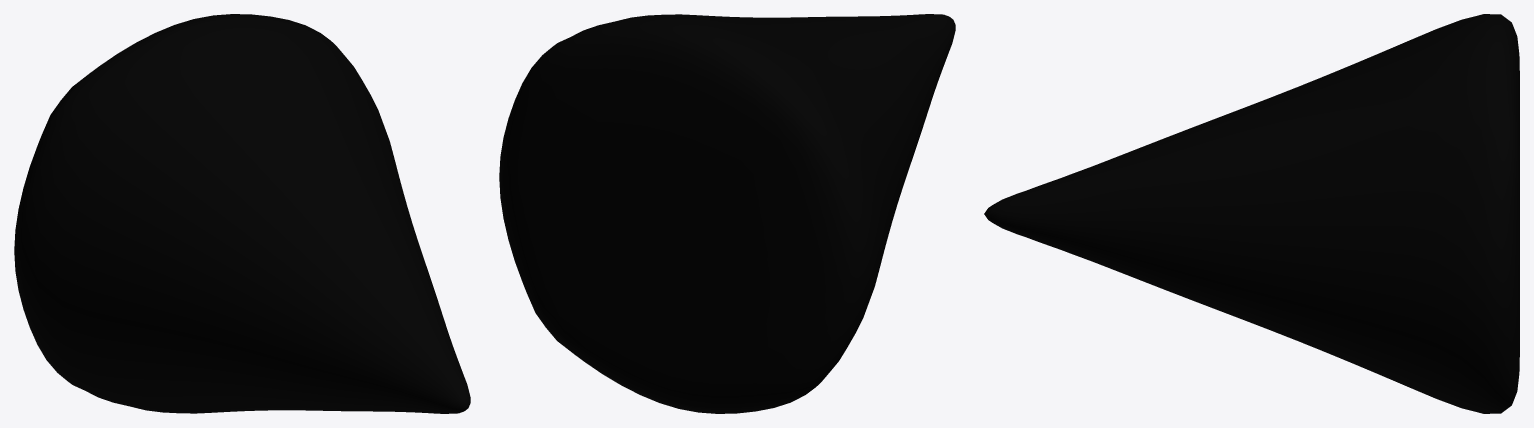
The model's file is BeeBullet.fbx.
3 views of the same model, side by side, from view 1: azimuth 30°, elevation 25°; view 2: azimuth 150°, elevation 25°; view 3: azimuth 270°, elevation 25° (orthographic). The views are drawn at different scales.
Parts seen in each view (by area): view 1: Cube; view 2: Cube; view 3: Cube.
Boxes of the visible parts, x1,y1,x2,y2 form: Cube: (14, 14, 470, 413); Cube: (499, 14, 955, 413); Cube: (984, 14, 1519, 413).
Bounding box in the file's own units: 114 × 114 × 154.
